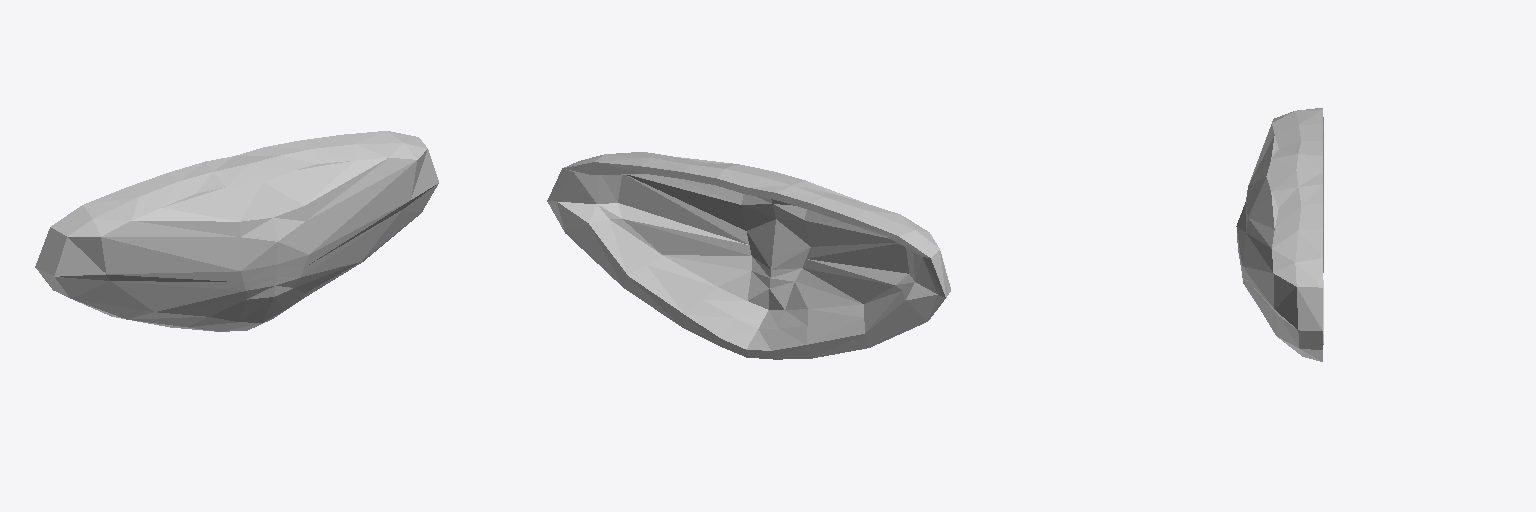
The model's file is mask_bottom_4.obj.
3 views of the same model, side by side, from view 1: azimuth 30°, elevation 25°; view 2: azimuth 150°, elevation 25°; view 3: azimuth 270°, elevation 25° (orthographic).
Size of the model in its own units: 4.53 by 1.87 by 0.8573.